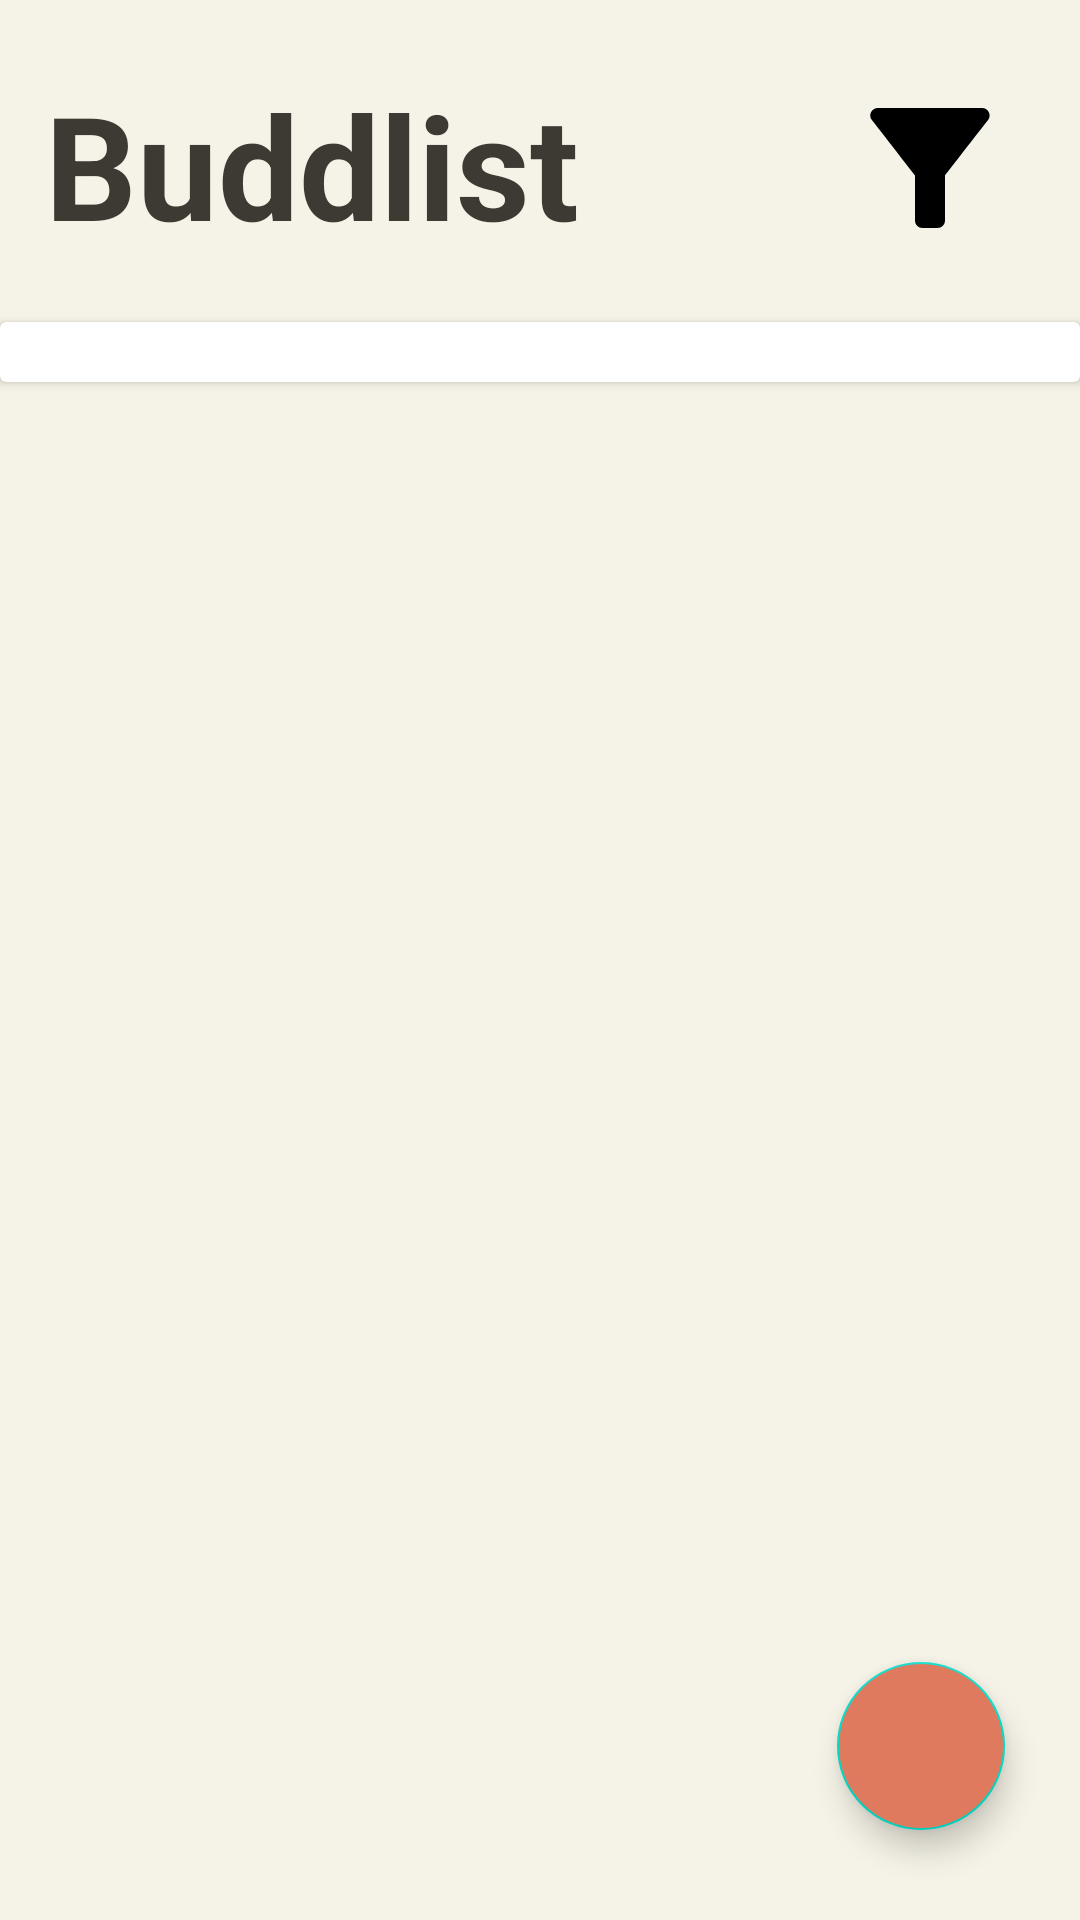

Icons on this 1080px×1920px Android screen, each with the point to tap as point (x, y):
filter: point (930, 168)
